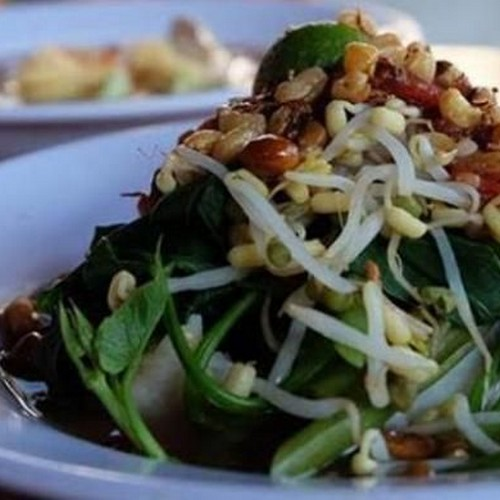serombotan: (161, 48, 500, 450)
